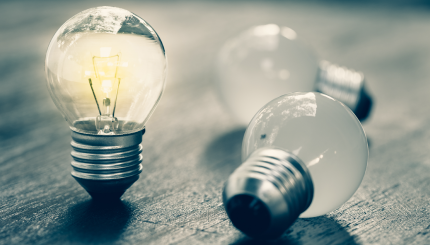Light_bulb: (42, 2, 171, 219), (218, 87, 377, 245)
